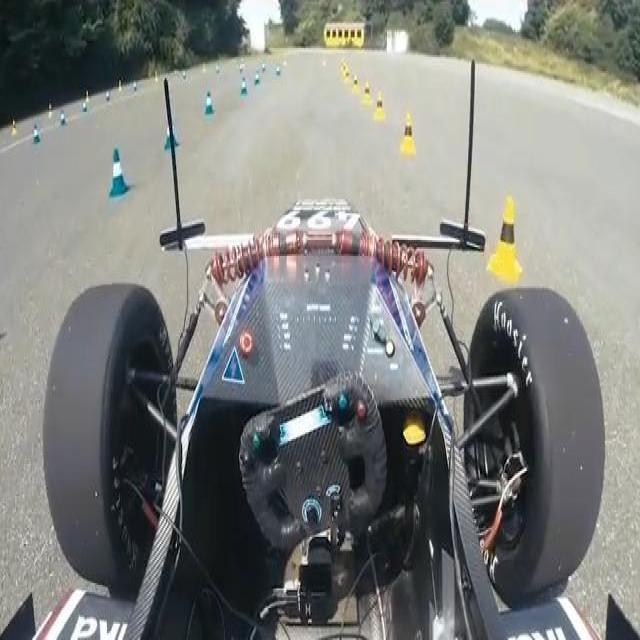blue_cone: (106, 146, 131, 198), (163, 116, 180, 150), (204, 90, 216, 116), (31, 121, 41, 145), (241, 77, 249, 98), (59, 106, 67, 126), (79, 96, 87, 113), (275, 66, 282, 80), (105, 87, 111, 101), (254, 71, 260, 85), (132, 80, 138, 94), (261, 60, 266, 72)
yellow_cone: (491, 195, 522, 284), (398, 114, 417, 156), (373, 93, 386, 120), (363, 82, 372, 104), (350, 76, 360, 95), (9, 119, 19, 135), (343, 69, 351, 84), (47, 105, 54, 119), (85, 89, 91, 102), (117, 80, 123, 92)
